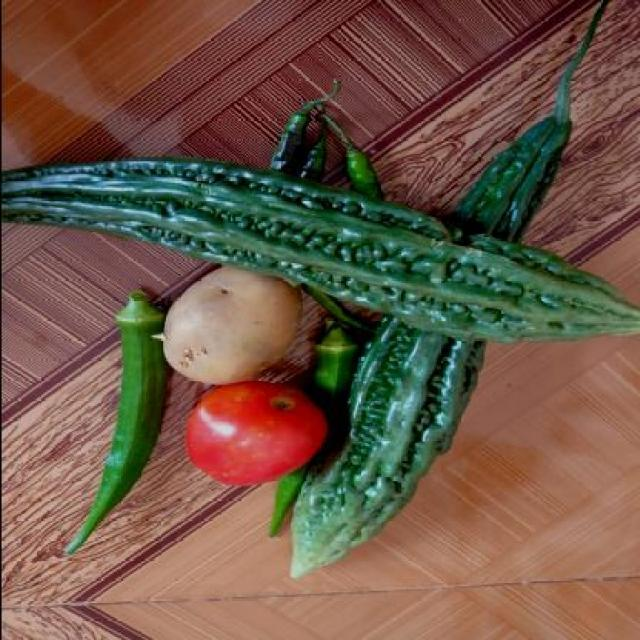Bitter melon: (0, 151, 555, 291)
Lady finger: (57, 300, 168, 556)
Potato: (154, 268, 297, 384)
Tomato: (170, 383, 328, 486)
